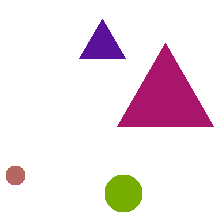circle: (105, 175, 141, 211), (6, 166, 24, 184)
triangle: (117, 43, 213, 126), (79, 19, 125, 58)
